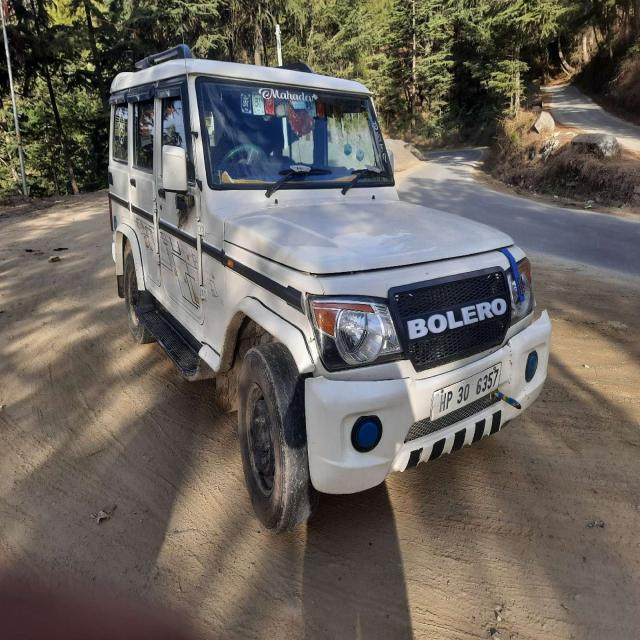light_vehicle: (108, 61, 549, 469)
